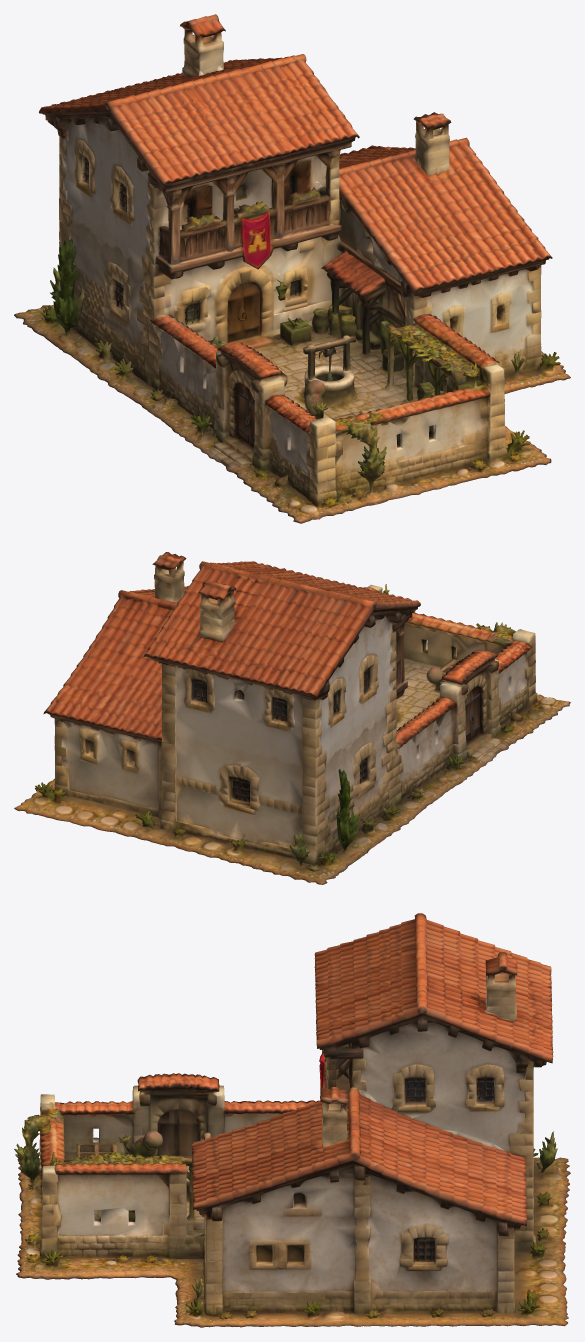
The model's file is SM_CasaAldea.fbx.
3 views of the same model, one above another, from view 1: azimuth 30°, elevation 25°; view 2: azimuth 150°, elevation 25°; view 3: azimuth 270°, elevation 25° (orthographic). The views are drawn at different scales.
Parts seen in each view (by area): view 1: SM_CasaAldea; view 2: SM_CasaAldea; view 3: SM_CasaAldea.
Part boxes in pixels (x1,y1,x2,y2): SM_CasaAldea: [14, 14, 570, 523]; SM_CasaAldea: [14, 552, 570, 884]; SM_CasaAldea: [14, 913, 570, 1327].
Bounding box in the file's own units: 72.25 × 54.68 × 100.
Materials: 1 (1 with a texture image).
